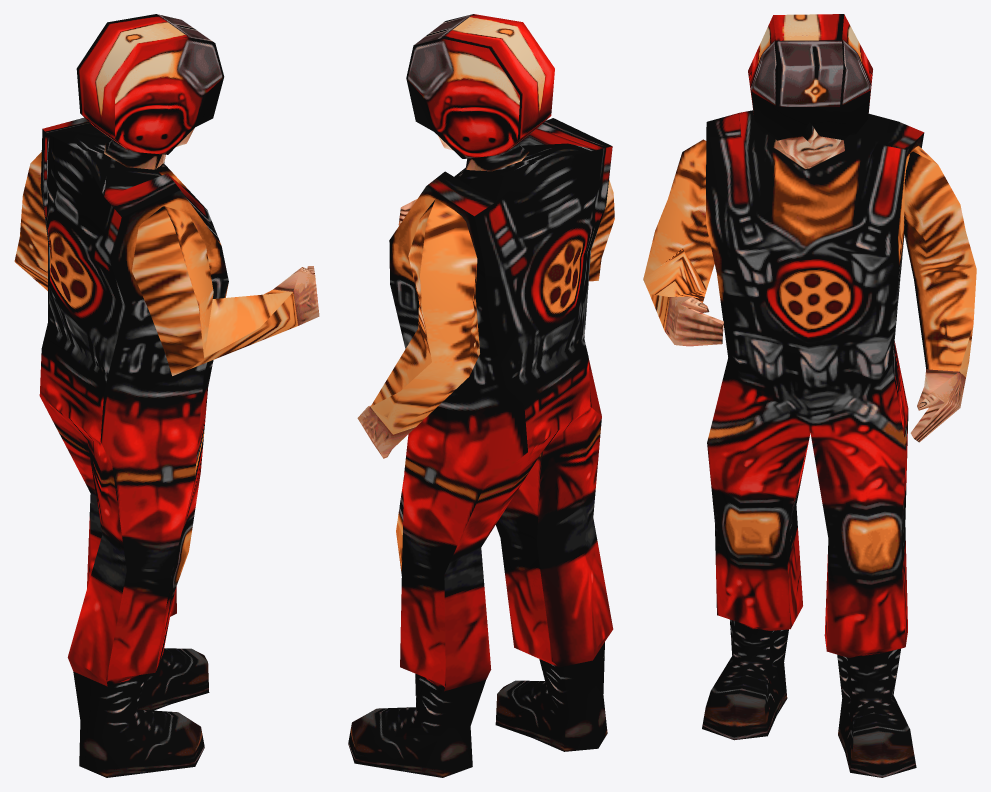
The model's file is hvyweapon2.glb.
3 renders of one model, left to right at view 1: azimuth 30°, elevation 25°; view 2: azimuth 150°, elevation 25°; view 3: azimuth 270°, elevation 25°, orthographic. The views are drawn at different scales.
Parts seen in each view (by area): view 1: hvyweapon2; view 2: hvyweapon2; view 3: hvyweapon2.
Boxes of the visible parts, bbox=[...] form: hvyweapon2: bbox=[14, 14, 319, 777]; hvyweapon2: bbox=[348, 14, 614, 777]; hvyweapon2: bbox=[643, 14, 976, 777].
Bounding box in the file's own units: 25.59 × 77.83 × 33.23.
Materials: 2 (2 with a texture image).
